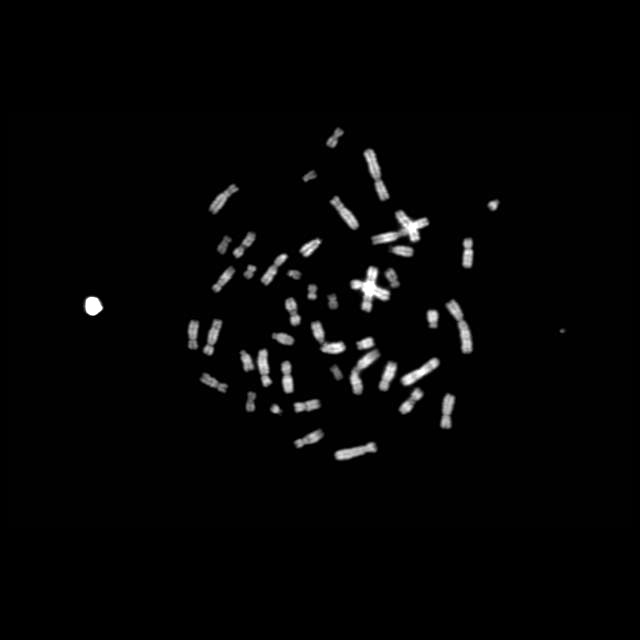chromosome: (372, 216, 428, 244), (364, 148, 390, 200), (446, 300, 472, 352), (350, 350, 380, 394), (402, 357, 440, 385), (311, 322, 345, 352), (330, 195, 358, 229), (262, 252, 288, 286), (210, 184, 238, 213), (349, 281, 389, 301), (362, 266, 378, 312), (203, 318, 222, 356), (335, 443, 375, 461), (396, 211, 419, 241), (234, 230, 256, 258), (213, 267, 235, 293), (400, 388, 422, 414), (258, 348, 272, 388), (295, 428, 323, 448), (200, 373, 228, 392), (379, 362, 397, 391), (286, 298, 302, 326), (442, 394, 454, 428), (300, 238, 322, 256), (282, 361, 294, 393), (462, 238, 474, 268), (187, 320, 198, 350), (327, 128, 343, 148), (294, 400, 320, 412), (241, 350, 255, 372), (386, 268, 399, 288), (331, 364, 344, 382), (391, 246, 414, 256), (272, 334, 294, 344), (218, 235, 230, 253), (427, 310, 439, 328), (246, 391, 256, 411), (357, 337, 373, 349), (303, 170, 317, 182), (308, 284, 318, 300), (244, 265, 256, 277), (288, 269, 300, 281), (328, 295, 338, 309), (489, 200, 499, 210), (272, 404, 280, 414)
